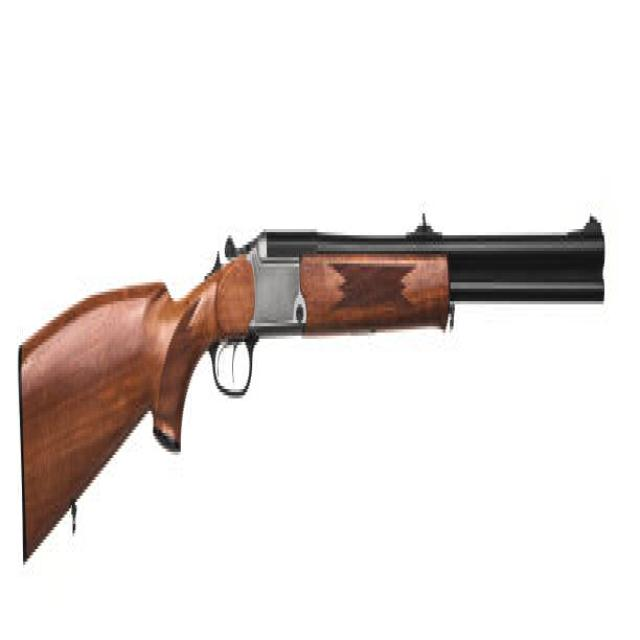rifle: (13, 192, 612, 586)
